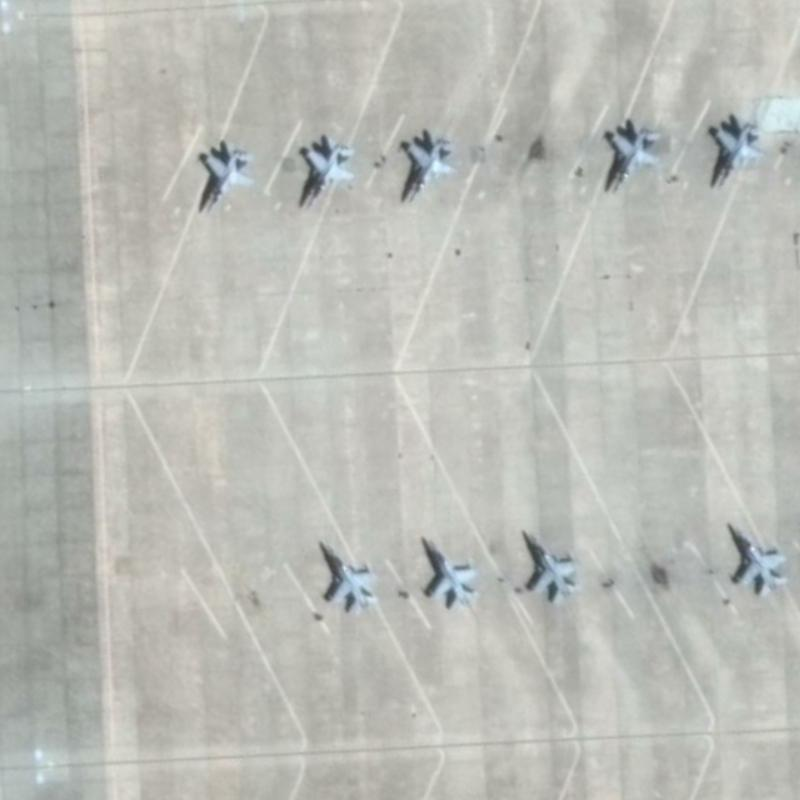A16: (720, 509, 792, 599), (516, 512, 585, 605), (416, 524, 486, 611), (596, 113, 665, 200), (390, 126, 461, 210), (314, 530, 380, 617), (703, 106, 768, 194), (191, 130, 255, 219), (292, 129, 360, 210)
